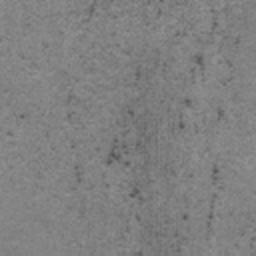Oxide scale of temperature system: (70, 20, 234, 221), (182, 163, 225, 236), (5, 111, 27, 138), (81, 5, 95, 23), (133, 70, 142, 78), (133, 250, 145, 256), (157, 9, 163, 15)
